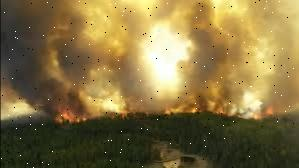fire: (45, 91, 280, 130)
